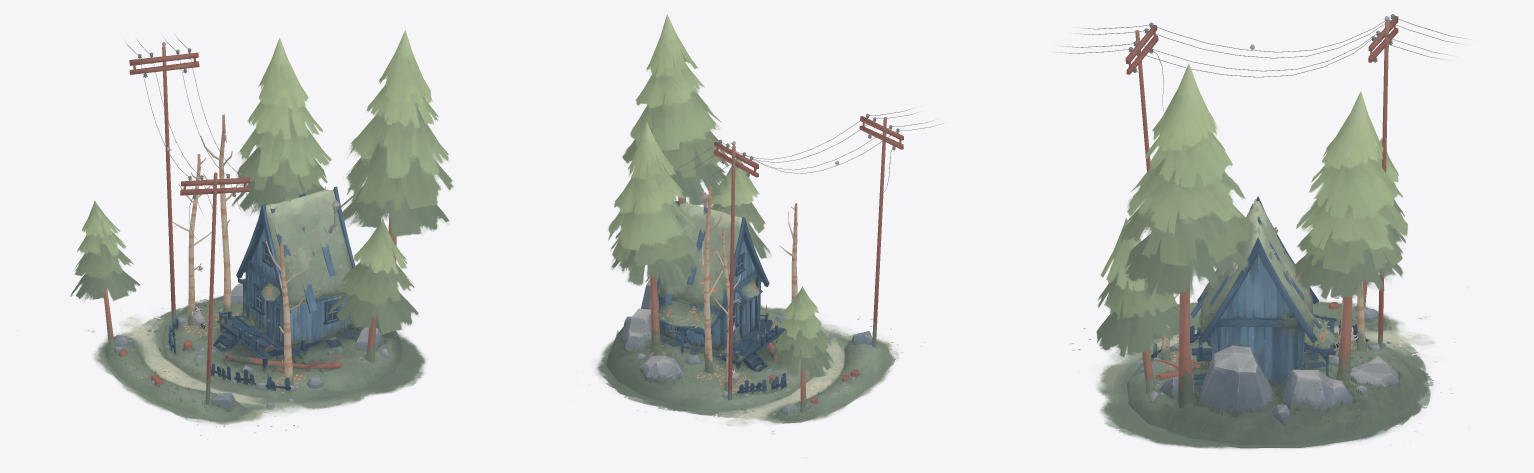
File: forest_house.glb
3 views of the same model, side by side, from view 1: azimuth 30°, elevation 25°; view 2: azimuth 150°, elevation 25°; view 3: azimuth 270°, elevation 25° (orthographic). The views are drawn at different scales.
Visible parts, largest first — view 1: RedwoodAlpha, Ground, GroundPlane, RoofMoss, House, Powerlines, Rocks, HouseWoodFloor, BTree.001, BTree, BTree.002, Grass.Ground (+5 smaller); view 2: RedwoodAlpha, Ground, GroundPlane, Powerlines, RoofMoss, House, Rocks, BTree.001, SideRoofBase, HouseWoodFloor, Redwood, Grass.Ground (+4 smaller); view 3: RedwoodAlpha, Ground, Rocks, House, GroundPlane, Powerlines, RoofMoss, Redwood, Grass.Ground, SideRoofBase, Roof.009, HouseWoodFloor (+2 smaller).
Part boxes in pixels (box(x1,y1,x2,y2)): RedwoodAlpha: box(70, 30, 453, 335); Ground: box(105, 296, 402, 419); GroundPlane: box(88, 292, 426, 439); RoofMoss: box(265, 189, 351, 305); House: box(236, 186, 355, 346); Powerlines: box(129, 46, 250, 404); Rocks: box(113, 283, 385, 411); HouseWoodFloor: box(217, 313, 354, 359); BTree.001: box(200, 114, 237, 316); BTree: box(266, 241, 310, 385); BTree.002: box(172, 154, 211, 325); Grass.Ground: box(107, 295, 394, 412); RedwoodAlpha: box(608, 14, 834, 377); Ground: box(606, 308, 884, 423); GroundPlane: box(595, 305, 924, 433); Powerlines: box(713, 114, 903, 399); RoofMoss: box(659, 203, 742, 306); House: box(657, 201, 769, 350); Rocks: box(619, 275, 872, 416); BTree.001: box(701, 186, 722, 372); SideRoofBase: box(651, 300, 718, 334); HouseWoodFloor: box(660, 318, 785, 362); Redwood: box(645, 195, 806, 413); Grass.Ground: box(613, 317, 881, 417); RedwoodAlpha: box(1096, 63, 1407, 358); Ground: box(1127, 302, 1415, 448); Rocks: box(1140, 306, 1400, 426); House: box(1197, 196, 1318, 386); GroundPlane: box(1069, 300, 1454, 448); Powerlines: box(1125, 14, 1398, 347); RoofMoss: box(1199, 201, 1314, 330); Redwood: box(1142, 275, 1372, 406); Grass.Ground: box(1150, 303, 1401, 429); SideRoofBase: box(1304, 314, 1335, 355); Roof.009: box(1190, 203, 1322, 328); HouseWoodFloor: box(1191, 336, 1325, 385).
Bounding box in the file's own units: 0.1447 × 0.1437 × 0.1766.
12 materials, 12 textured.
